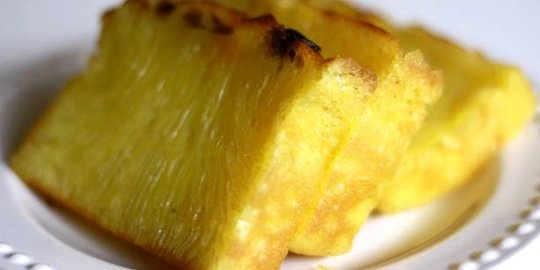bika_ambon: (30, 1, 352, 263)
